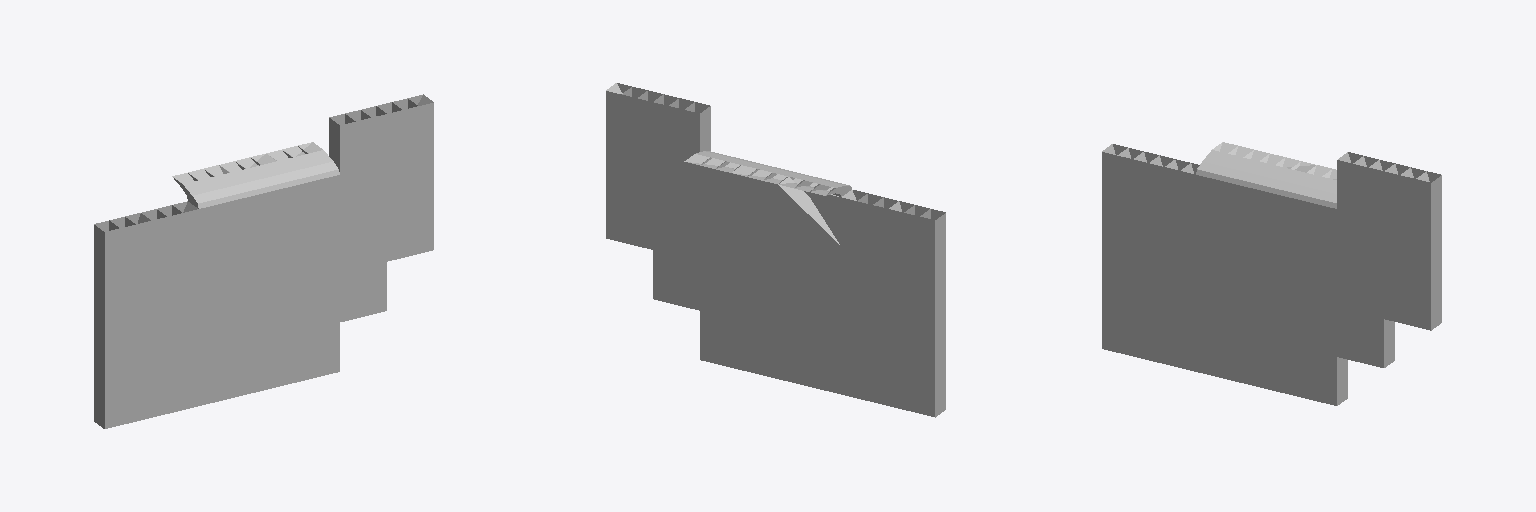
Rendered from 3d_Stonetalon - Taxi lake.wlw.obj.
3 renders of one model, left to right at view 1: azimuth 30°, elevation 25°; view 2: azimuth 150°, elevation 25°; view 3: azimuth 330°, elevation 25°, orthographic.
Bounding box in the file's own units: 175 × 125 × 24.75.